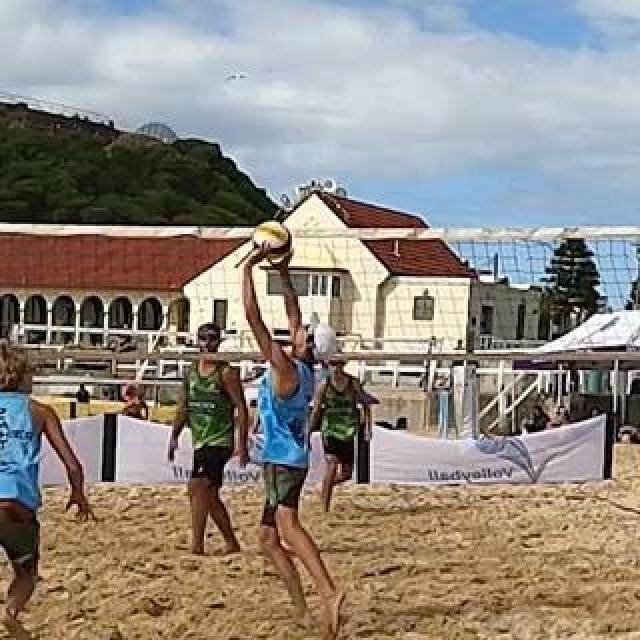volleyball: (254, 222, 292, 262)
